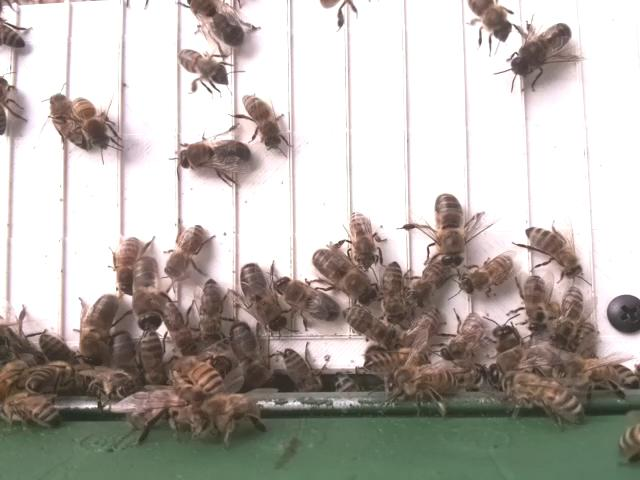Drone: (313, 248, 382, 307), (507, 20, 575, 79), (238, 260, 290, 336), (273, 276, 344, 326), (78, 290, 118, 368), (176, 135, 253, 175), (129, 255, 165, 335), (190, 0, 248, 49), (431, 190, 466, 270)
Worker: (522, 223, 584, 280), (242, 90, 285, 150)
